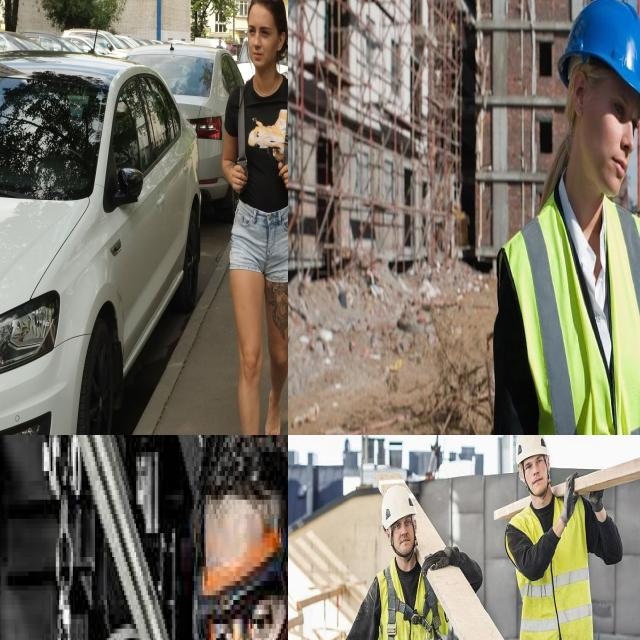Barefoots: (265, 388, 281, 435)
Ear-protection: (181, 435, 288, 640)
No_Ear-Protection: (569, 62, 590, 125), (544, 453, 552, 471), (412, 514, 419, 534)
No_Glasses: (603, 81, 640, 142), (521, 454, 546, 472), (389, 516, 416, 532)
face_nomask: (588, 72, 640, 200)
hand_noglove: (389, 512, 420, 560)
head_helmet: (559, 0, 640, 124), (379, 487, 422, 516), (517, 435, 552, 456)
person: (517, 0, 640, 435), (505, 435, 603, 640), (362, 478, 461, 640)
vest: (508, 196, 640, 435), (515, 496, 595, 640), (379, 568, 454, 640)
